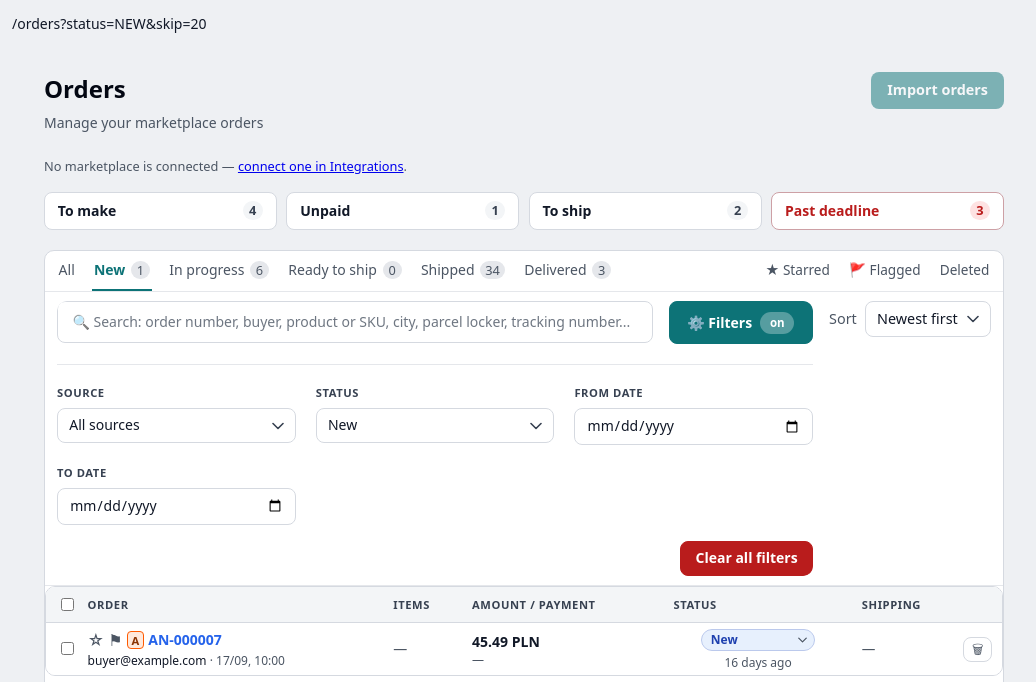
Test case: the order's own page › opens from the list, and back returns to the same filters and page
The width and height of the screenshot is (1036, 682).
Click the link "AN-000007" at (185, 640), box [148,630,222,650]
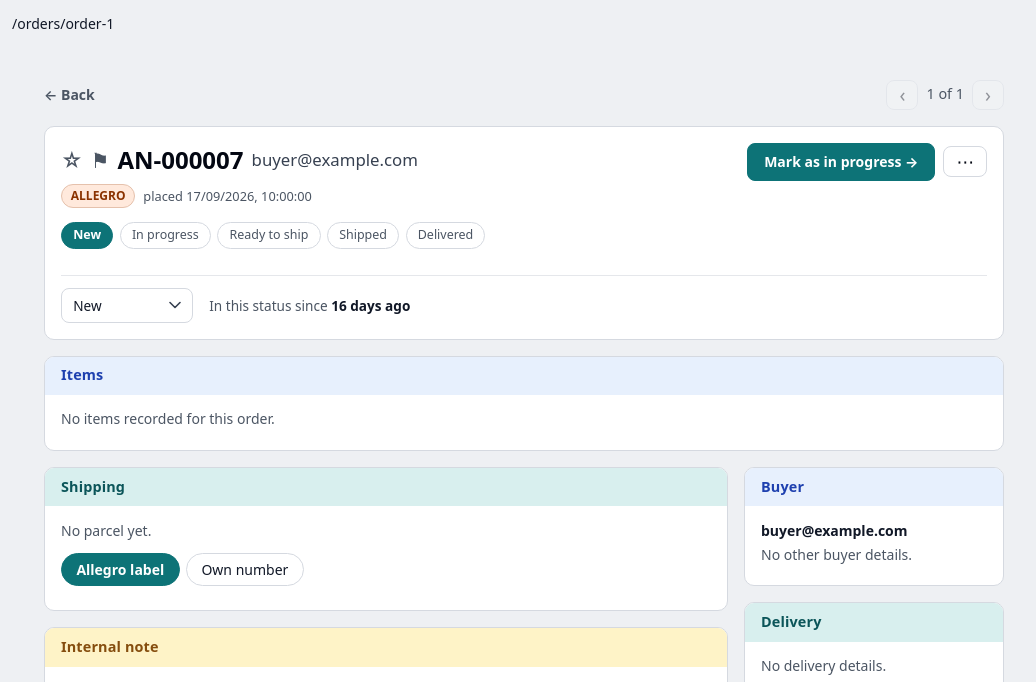
Expected: the text with test id "where" reads "/orders/order-1", [12,14,114,33]
Expected: the text "1 of 1" is shown, [926,84,964,105]
Expected: the button named "Previous order" is disabled, [886,80,918,110]
Click the link "← Back" at (69, 95), box [44,85,95,105]
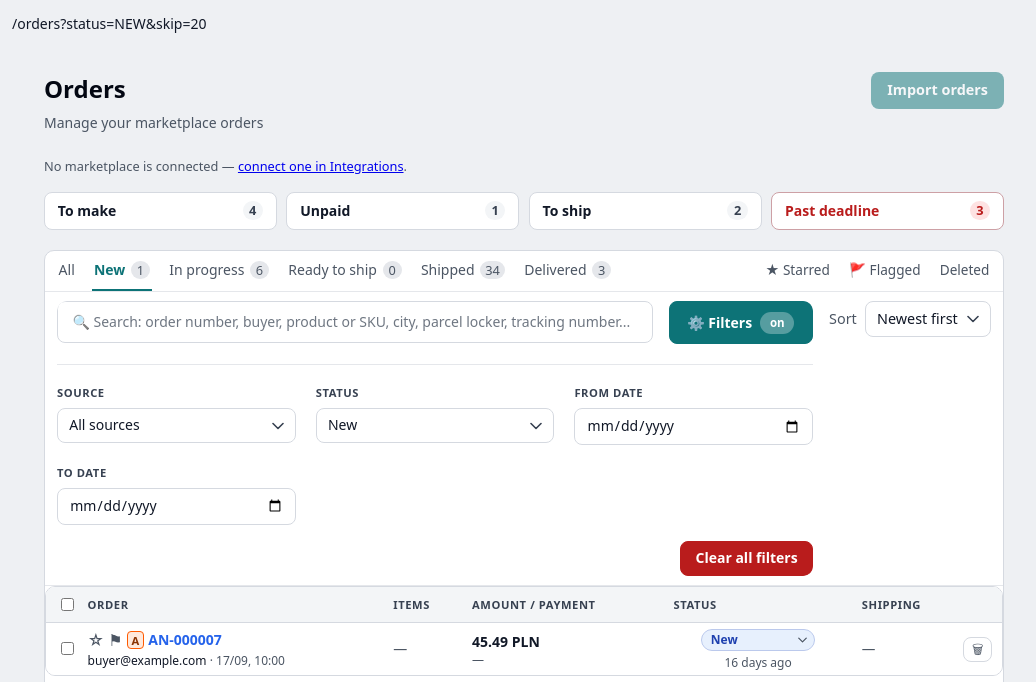
Expected: the text with test id "where" reads "/orders?status=NEW&skip=20", [12,14,206,33]
